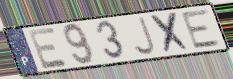3: (94, 19, 126, 63)
9: (63, 22, 96, 67)
E: (179, 7, 224, 51), (26, 26, 70, 71)
J: (132, 15, 157, 57)
X: (149, 10, 193, 55)
